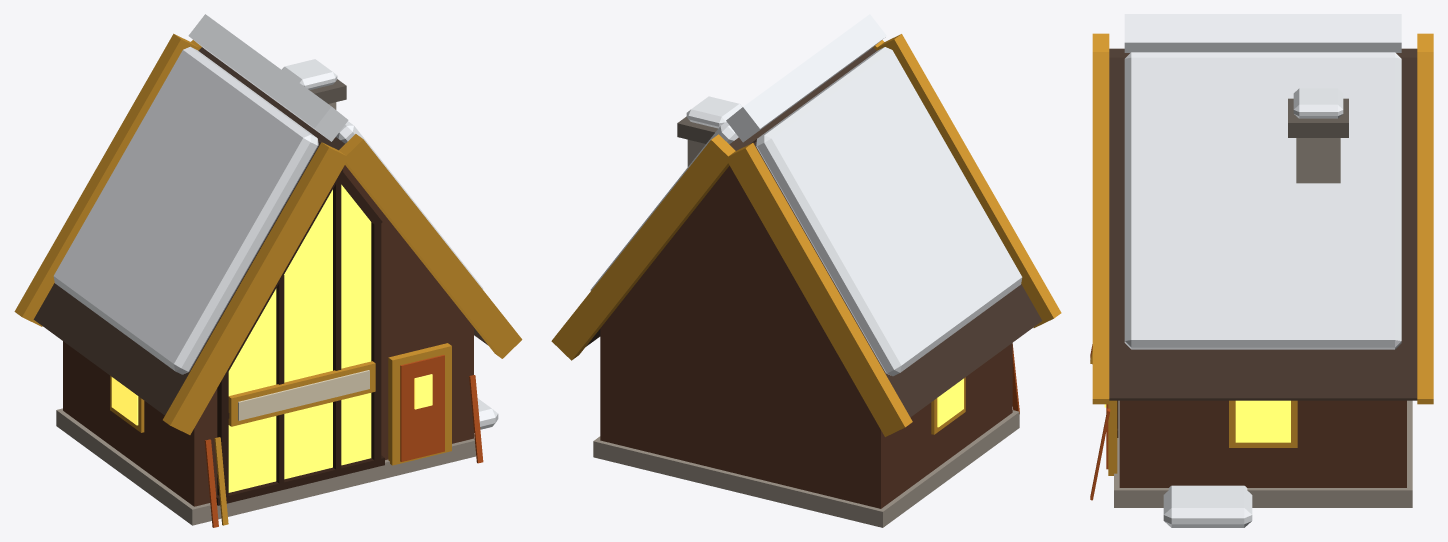
The model's file is ski-shop-chalet70s.glb.
The picture shows the model from 3 angles, left to right: view 1: azimuth 30°, elevation 25°; view 2: azimuth 150°, elevation 25°; view 3: azimuth 270°, elevation 25°; orthographic projection. The views are drawn at different scales.
Visible parts, largest first — view 1: ski-shop-chalet70s; view 2: ski-shop-chalet70s; view 3: ski-shop-chalet70s.
Part boxes in pixels (bbox=[...]): ski-shop-chalet70s: bbox=[14, 14, 522, 527]; ski-shop-chalet70s: bbox=[551, 14, 1061, 527]; ski-shop-chalet70s: bbox=[1090, 14, 1433, 527].
Bounding box in the file's own units: 8.33 × 8.32 × 6.22.
